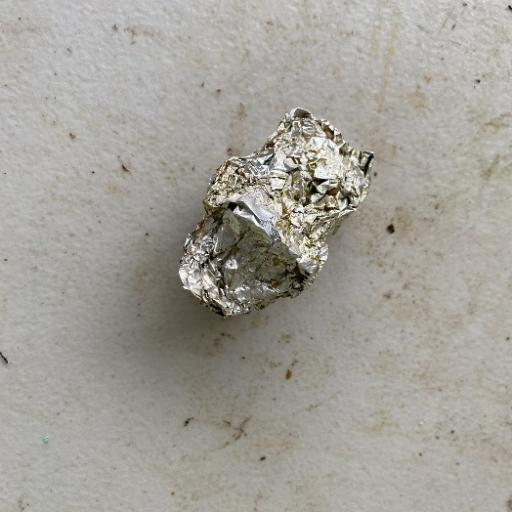Metal: (176, 106, 376, 320)
